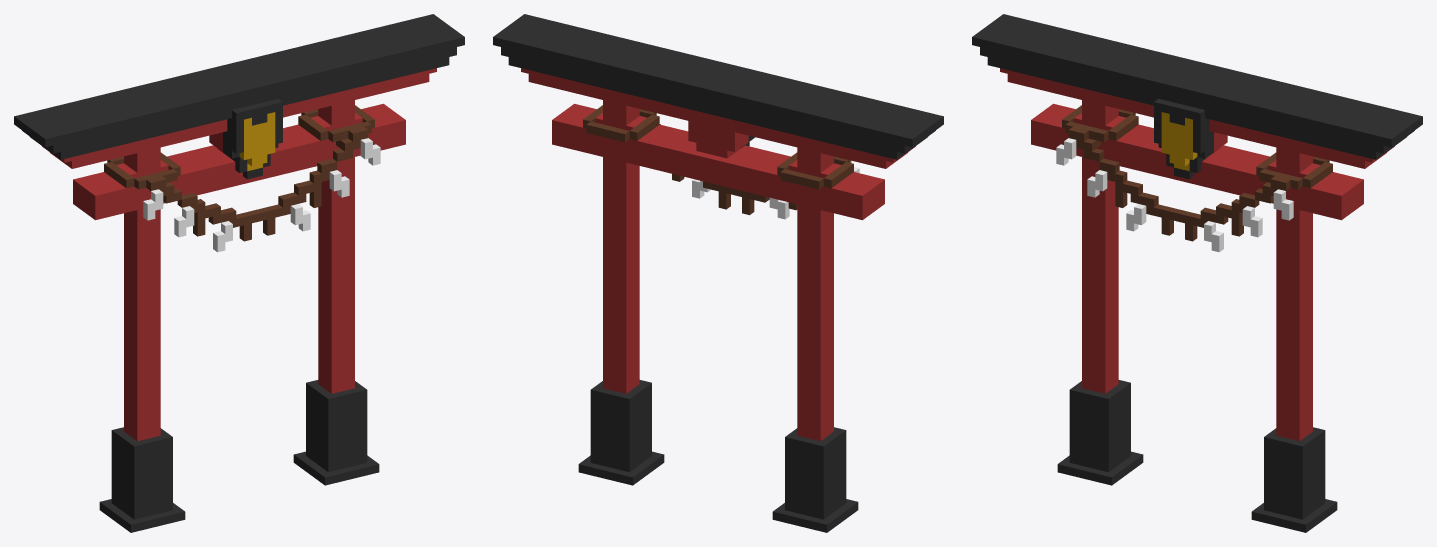
File: mapkari-2.obj
3 views of the same model, side by side, from view 1: azimuth 30°, elevation 25°; view 2: azimuth 150°, elevation 25°; view 3: azimuth 330°, elevation 25° (orthographic).
Parts seen in each view (by area): view 1: mapkari-2; view 2: mapkari-2; view 3: mapkari-2.
Boxes of the visible parts, bbox=[...] form: mapkari-2: bbox=[14, 14, 464, 532]; mapkari-2: bbox=[493, 14, 943, 532]; mapkari-2: bbox=[972, 14, 1422, 532].
Size of the model in its own units: 54 by 51 by 9.
Materials: 1 (1 with a texture image).
